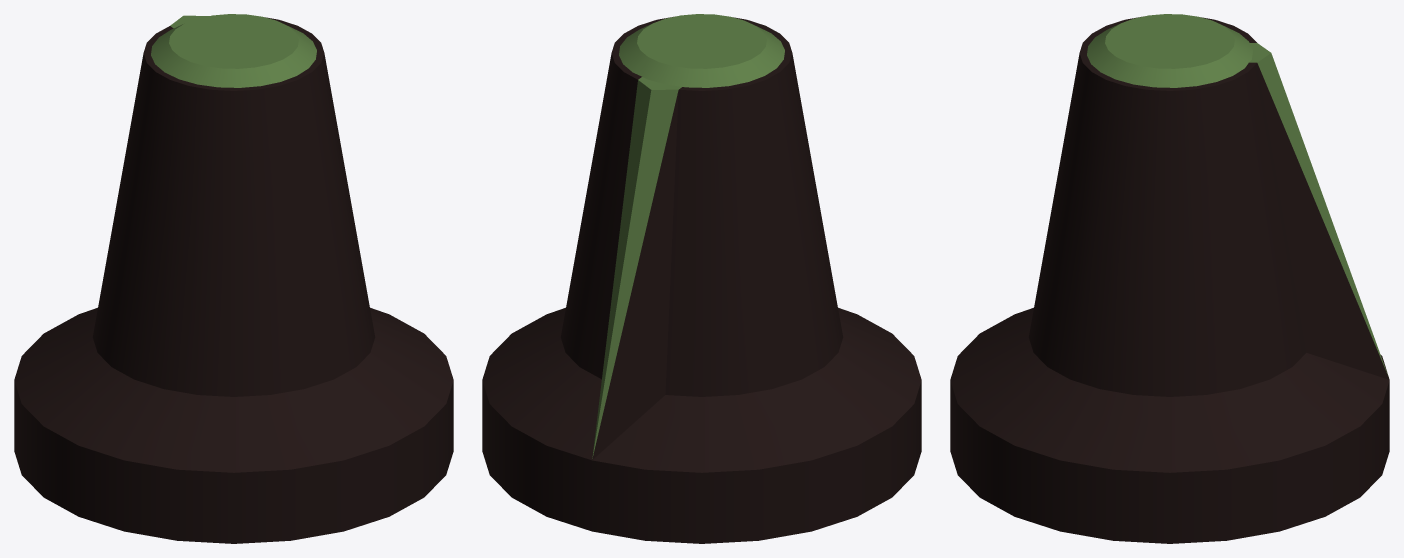
The model's file is potenciometer.fbx.
3 renders of one model, left to right at view 1: azimuth 30°, elevation 25°; view 2: azimuth 150°, elevation 25°; view 3: azimuth 270°, elevation 25°, orthographic.
Visible parts, largest first — view 1: Model; view 2: Model; view 3: Model.
Boxes of the visible parts, x1,y1,x2,y2 form: Model: [14, 14, 453, 543]; Model: [482, 14, 921, 543]; Model: [950, 14, 1389, 543].
Size of the model in its own units: 14 by 14.4 by 14.
